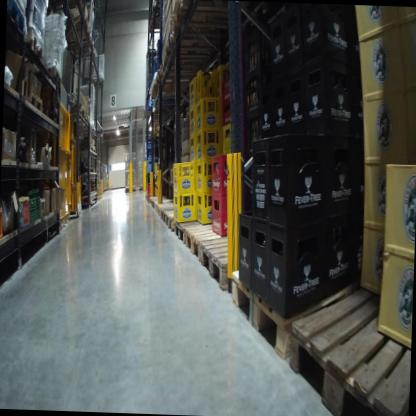pallet: (292, 279, 411, 416), (231, 264, 364, 361), (199, 236, 265, 297), (185, 222, 254, 266), (174, 0, 249, 36), (157, 46, 231, 81), (164, 31, 223, 60), (172, 215, 210, 246), (7, 0, 30, 40), (156, 65, 208, 81), (59, 40, 98, 60), (61, 24, 95, 45), (29, 23, 46, 60), (65, 12, 92, 29), (155, 201, 180, 219), (43, 66, 65, 86), (26, 92, 45, 115), (165, 213, 184, 233), (67, 99, 86, 119), (160, 209, 180, 226), (116, 184, 137, 197), (73, 114, 92, 126), (81, 140, 97, 152), (96, 195, 102, 201), (96, 193, 103, 198), (96, 188, 102, 193), (97, 185, 103, 190), (97, 179, 102, 185)
